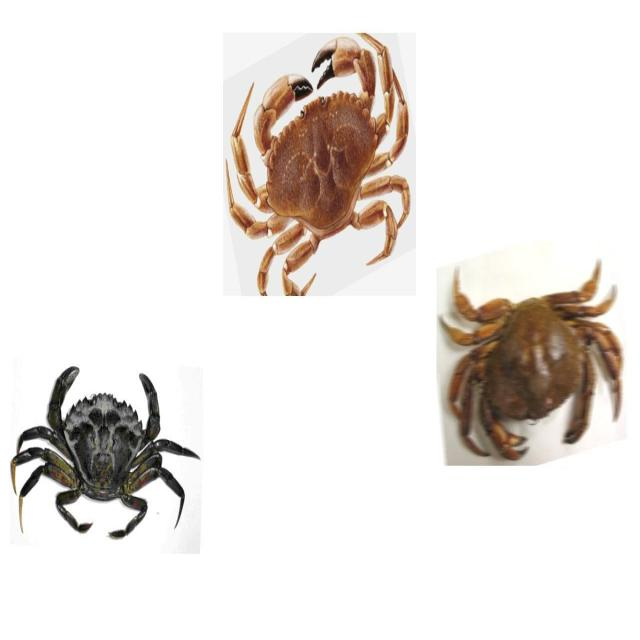egc: (10, 364, 202, 541)
